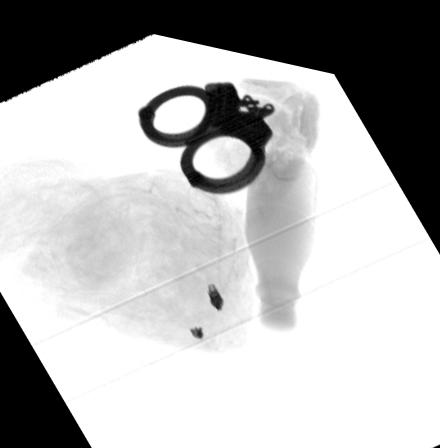HandCuffs: (137, 71, 274, 186)
